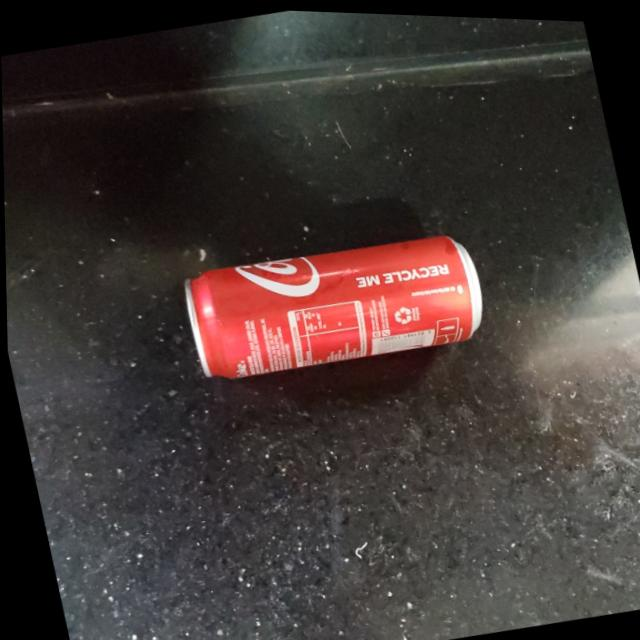coke: (184, 211, 496, 386)
